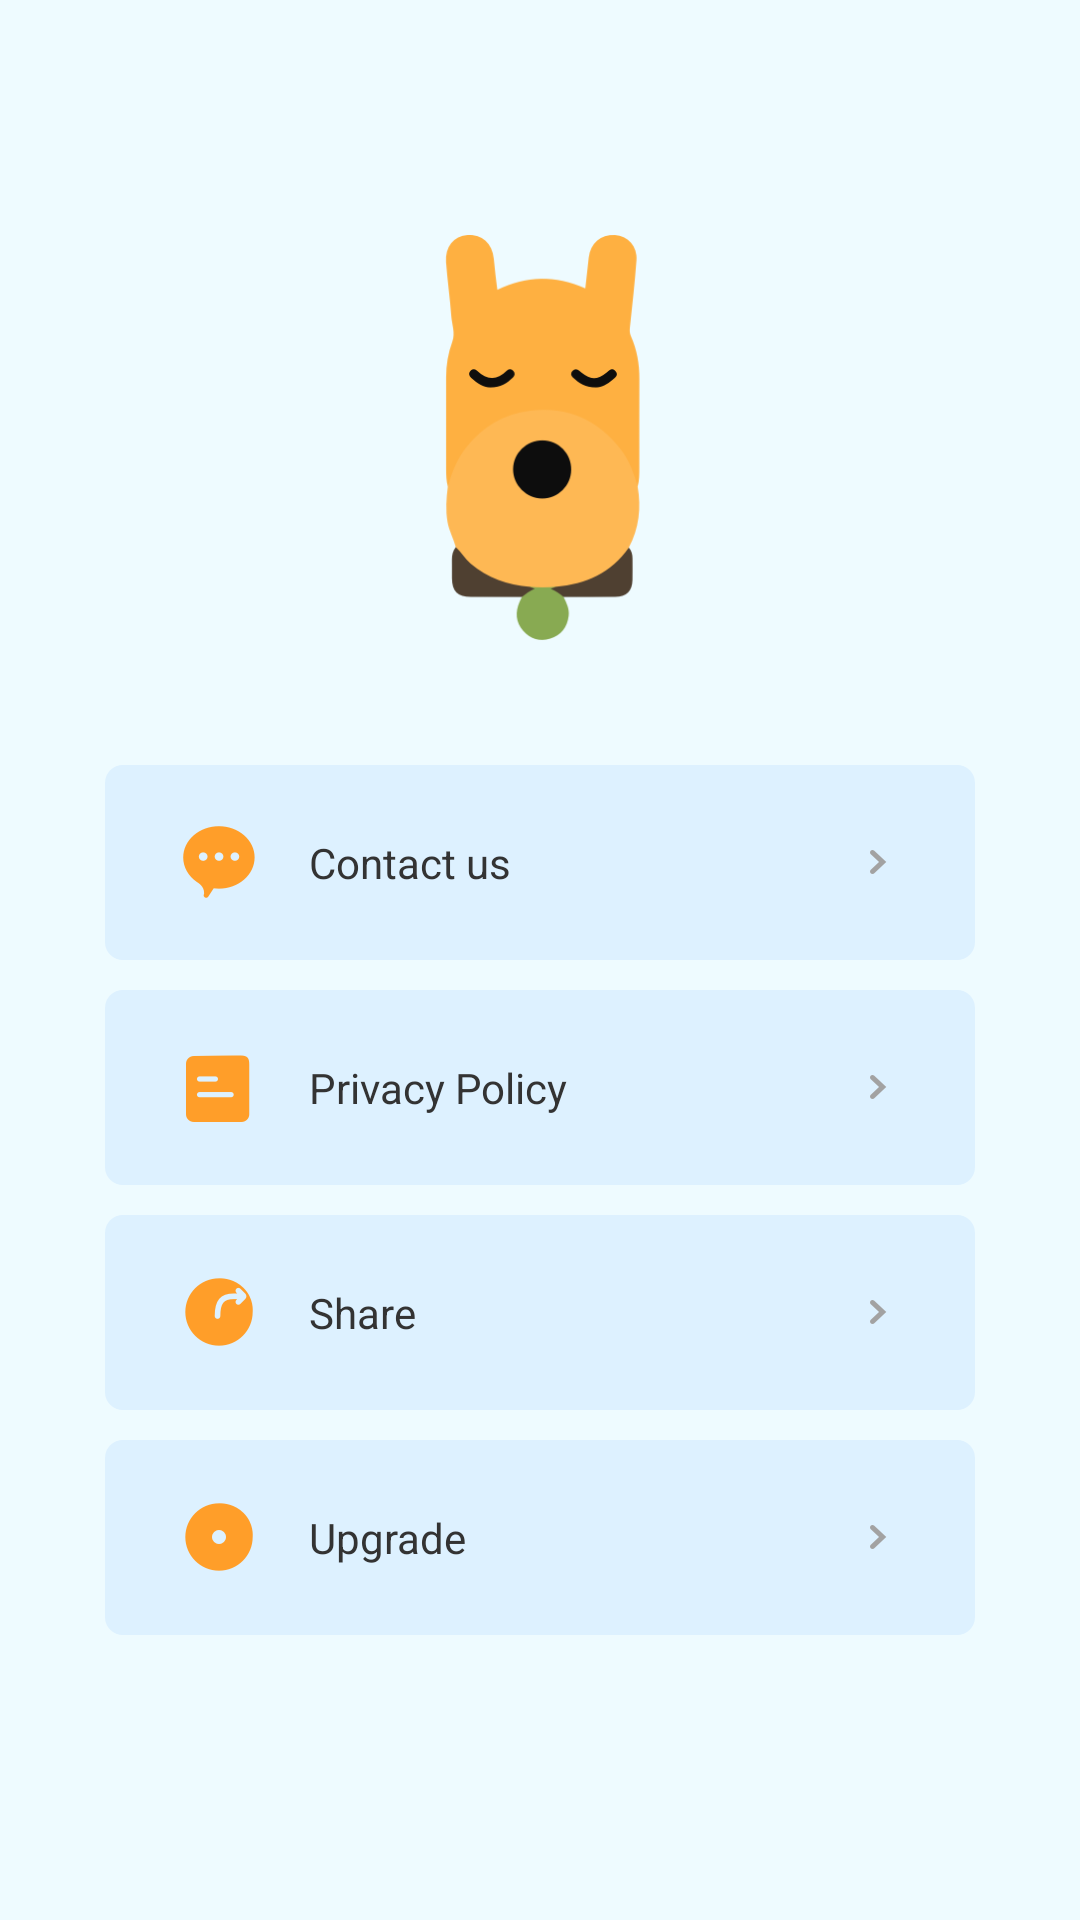

Locate icon controls on the screen. Image size 1080 × 1920, boxes as {"left": x1, "top": y1, "right": x2, "bottom": y2}.
right: {"left": 870, "top": 850, "right": 886, "bottom": 874}, {"left": 870, "top": 1075, "right": 886, "bottom": 1099}, {"left": 870, "top": 1300, "right": 886, "bottom": 1324}, {"left": 870, "top": 1525, "right": 886, "bottom": 1549}
